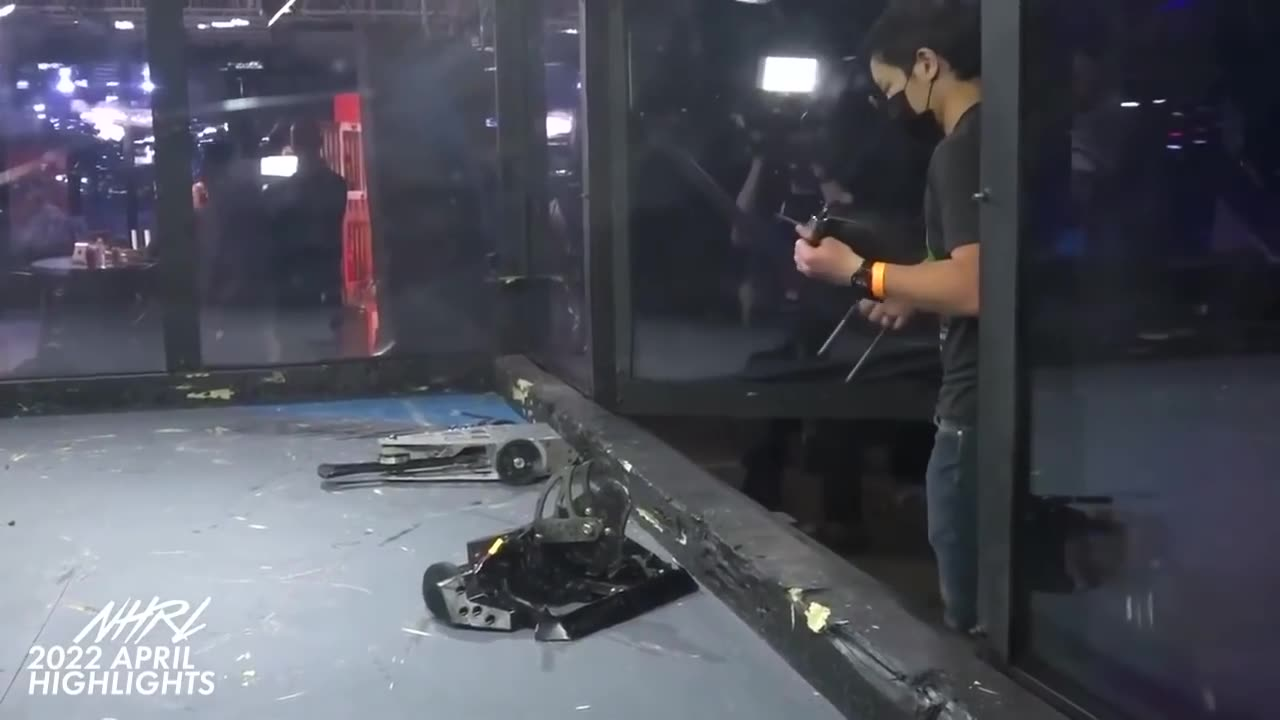combatbot: (421, 513, 695, 640), (378, 414, 568, 490)
